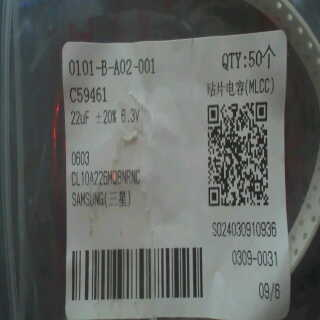22uF: (68, 109, 93, 126)
